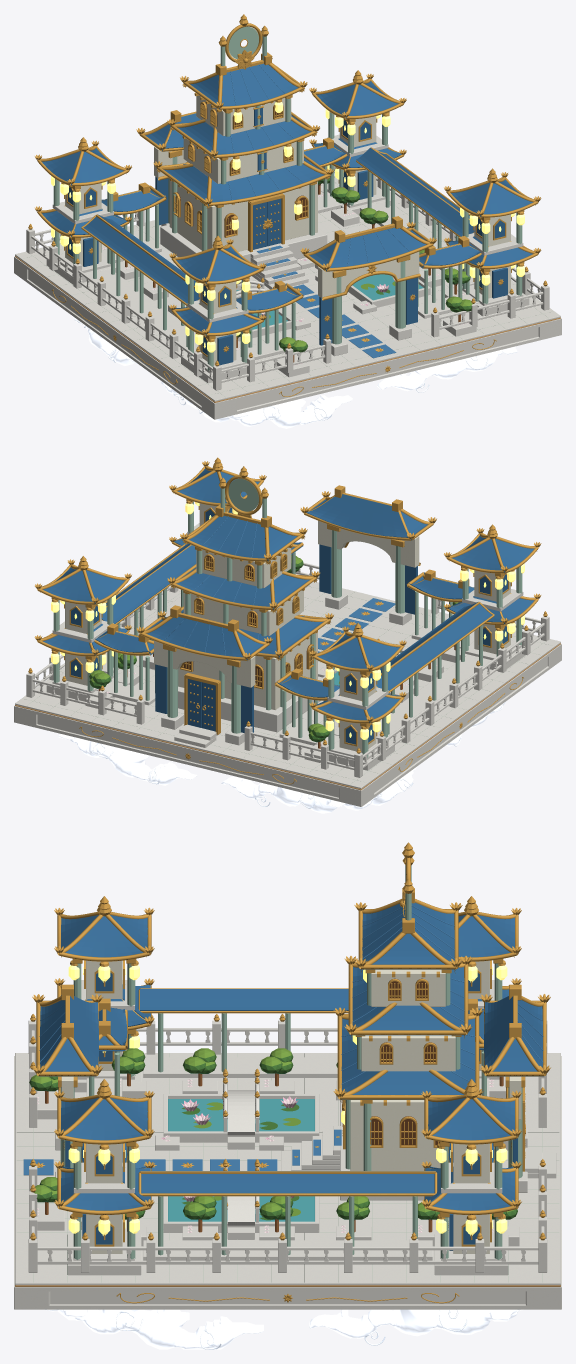
The model's file is city-6.glb.
The picture shows the model from 3 angles, top to bottom: view 1: azimuth 30°, elevation 25°; view 2: azimuth 150°, elevation 25°; view 3: azimuth 270°, elevation 25°; orthographic projection. The views are drawn at different scales.
Visible parts, largest first — view 1: SM_CT6_V4_Batch_2.004, SM_CT6_V4_Batch_0.004, SM_CT6_V4_Batch_5.004, SM_CT6_V4_Batch_144.004, SM_CT6_V4_Batch_171.004, SM_CT6_V4_Batch_11.004, SM_CT6_V4_Batch_150.004, SM_CT6_V4_Batch_148.004, SM_CT6_V4_Batch_17.004, SM_CT6_V4_Batch_109.004, SM_CT6_V4_Batch_14.004, SM_CT6_V4_Batch_139.004 (+74 smaller); view 2: SM_CT6_V4_Batch_2.004, SM_CT6_V4_Batch_0.004, SM_CT6_V4_Batch_144.004, SM_CT6_V4_Batch_5.004, SM_CT6_V4_Batch_171.004, SM_CT6_V4_Batch_109.004, SM_CT6_V4_Batch_148.004, SM_CT6_V4_Batch_17.004, SM_CT6_V4_Batch_118.004, SM_CT6_V4_Batch_14.004, SM_CT6_V4_Batch_150.004, SM_CT6_V4_Batch_153.004 (+72 smaller); view 3: SM_CT6_V4_Batch_2.004, SM_CT6_V4_Batch_0.004, SM_CT6_V4_Batch_144.004, SM_CT6_V4_Batch_5.004, SM_CT6_V4_Batch_171.004, SM_CT6_V4_Batch_150.004, SM_CT6_V4_Batch_139.004, SM_CT6_V4_Batch_148.004, SM_CT6_V4_Batch_17.004, SM_CT6_V4_Batch_11.004, SM_CT6_V4_Batch_92.004, SM_CT6_V4_Batch_14.004 (+59 smaller).
Part boxes in pixels (left/top/right/bottom): SM_CT6_V4_Batch_2.004: left=15, top=176, right=560, bottom=401; SM_CT6_V4_Batch_0.004: left=14, top=256, right=561, bottom=419; SM_CT6_V4_Batch_5.004: left=169, top=95, right=317, bottom=251; SM_CT6_V4_Batch_144.004: left=26, top=167, right=549, bottom=390; SM_CT6_V4_Batch_171.004: left=72, top=316, right=518, bottom=428; SM_CT6_V4_Batch_11.004: left=164, top=157, right=324, bottom=206; SM_CT6_V4_Batch_150.004: left=356, top=147, right=474, bottom=236; SM_CT6_V4_Batch_148.004: left=83, top=214, right=199, bottom=303; SM_CT6_V4_Batch_17.004: left=190, top=63, right=298, bottom=109; SM_CT6_V4_Batch_109.004: left=308, top=227, right=426, bottom=271; SM_CT6_V4_Batch_14.004: left=178, top=115, right=310, bottom=157; SM_CT6_V4_Batch_139.004: left=102, top=188, right=476, bottom=377; SM_CT6_V4_Batch_2.004: left=15, top=581, right=560, bottom=788; SM_CT6_V4_Batch_0.004: left=14, top=644, right=561, bottom=806; SM_CT6_V4_Batch_144.004: left=26, top=562, right=549, bottom=777; SM_CT6_V4_Batch_5.004: left=178, top=547, right=317, bottom=709; SM_CT6_V4_Batch_171.004: left=58, top=701, right=505, bottom=813; SM_CT6_V4_Batch_109.004: left=306, top=494, right=427, bottom=540; SM_CT6_V4_Batch_148.004: left=376, top=602, right=492, bottom=690; SM_CT6_V4_Batch_17.004: left=189, top=515, right=297, bottom=561; SM_CT6_V4_Batch_118.004: left=146, top=616, right=267, bottom=660; SM_CT6_V4_Batch_14.004: left=176, top=567, right=309, bottom=609; SM_CT6_V4_Batch_150.004: left=101, top=543, right=196, bottom=623; SM_CT6_V4_Batch_153.004: left=180, top=553, right=313, bottom=689; SM_CT6_V4_Batch_2.004: left=15, top=1053, right=560, bottom=1285; SM_CT6_V4_Batch_0.004: left=14, top=1056, right=561, bottom=1309; SM_CT6_V4_Batch_144.004: left=28, top=1020, right=547, bottom=1272; SM_CT6_V4_Batch_5.004: left=350, top=969, right=455, bottom=1170; SM_CT6_V4_Batch_171.004: left=45, top=1309, right=523, bottom=1349; SM_CT6_V4_Batch_150.004: left=140, top=1171, right=435, bottom=1193; SM_CT6_V4_Batch_139.004: left=37, top=1080, right=519, bottom=1246; SM_CT6_V4_Batch_148.004: left=140, top=989, right=348, bottom=1010; SM_CT6_V4_Batch_17.004: left=362, top=902, right=454, bottom=969; SM_CT6_V4_Batch_11.004: left=340, top=1018, right=475, bottom=1099; SM_CT6_V4_Batch_92.004: left=143, top=1240, right=432, bottom=1260; SM_CT6_V4_Batch_14.004: left=352, top=967, right=464, bottom=1035.
Bounding box in the file's own units: 10 × 8.35 × 10.
Materials: 19 (5 with a texture image).
